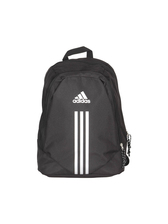bag: (31, 47, 143, 183)
